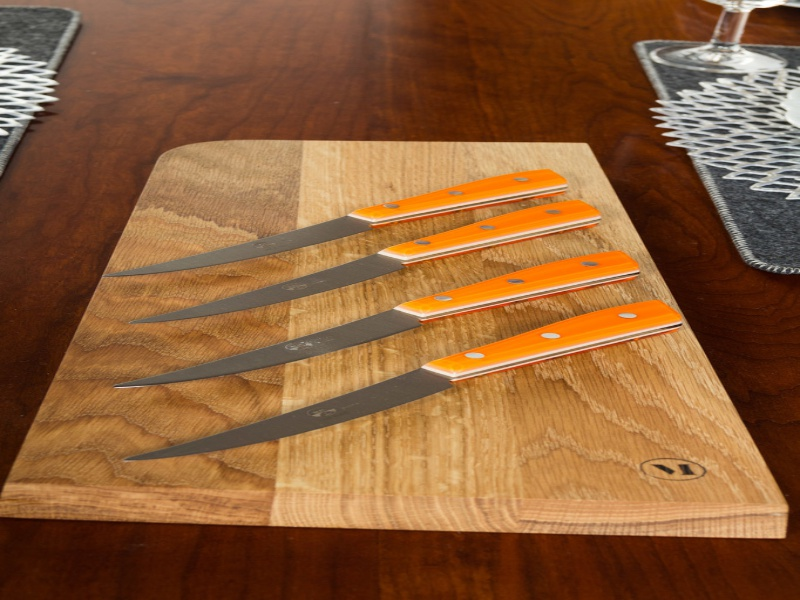knife: (102, 167, 680, 467), (117, 295, 687, 464), (107, 246, 642, 394), (122, 197, 601, 327), (99, 166, 565, 281)
